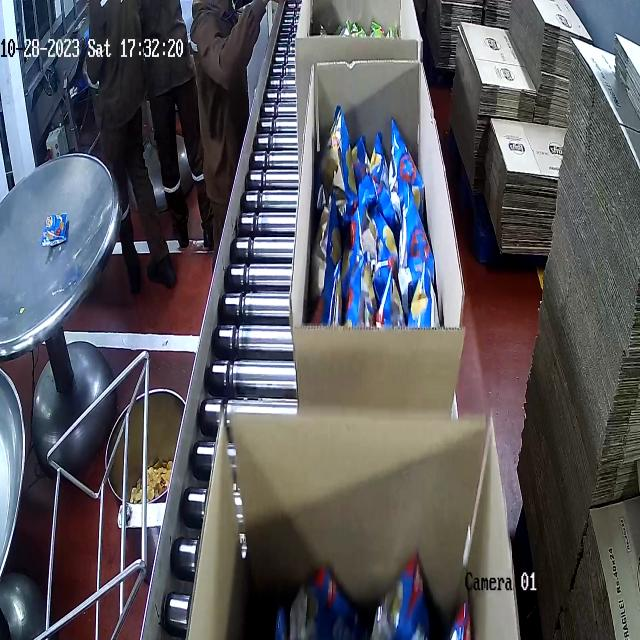PAPRIKA: (314, 101, 442, 325)
